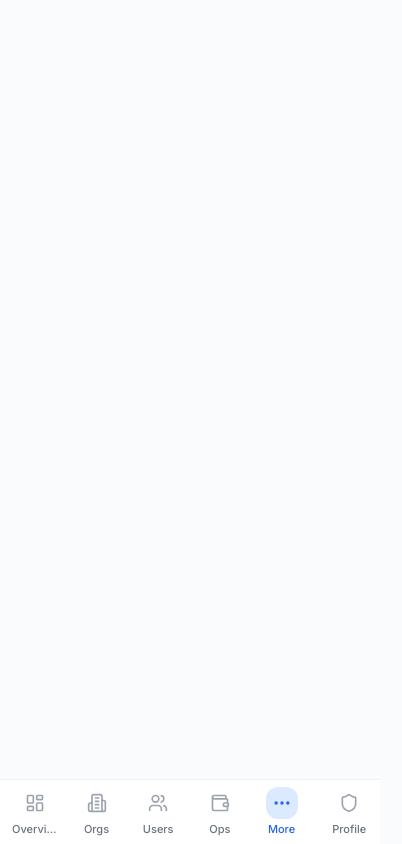
Test case: UserContextNavigation role experience › exposes overflow admin sections from the mobile bottom navigation
Click the button with aria-label "More navigation": click(282, 812) [253, 779, 310, 843]
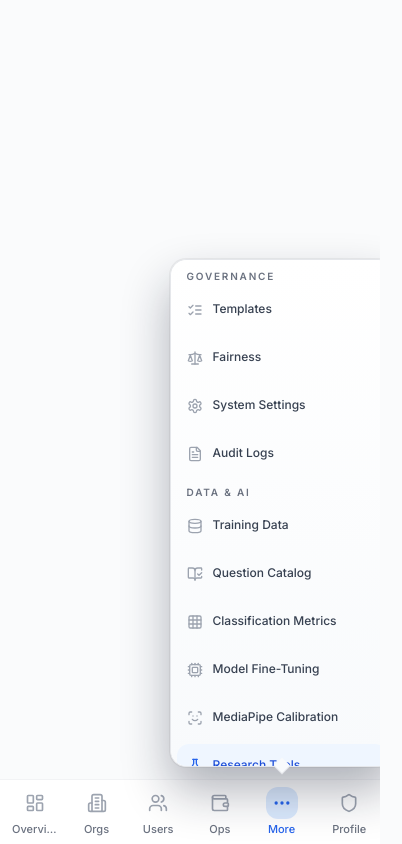
Check: the text "Governance" is shown, box [186, 270, 275, 282]
Check: the text "Data & AI" is shown, box [186, 486, 251, 498]
Check: the text "Templates" is shown, box [212, 302, 272, 318]
